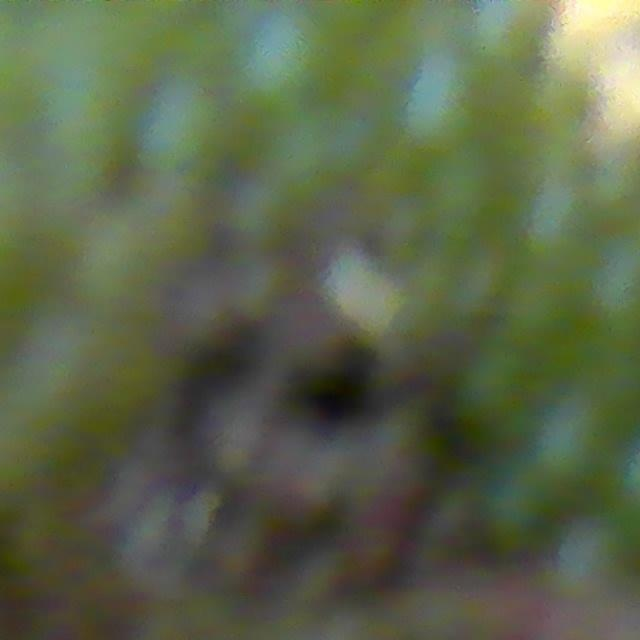SeaGrape: (236, 7, 348, 119), (138, 81, 244, 181), (527, 394, 615, 489), (400, 62, 489, 152), (550, 513, 632, 600), (69, 577, 160, 640), (471, 0, 554, 61)
